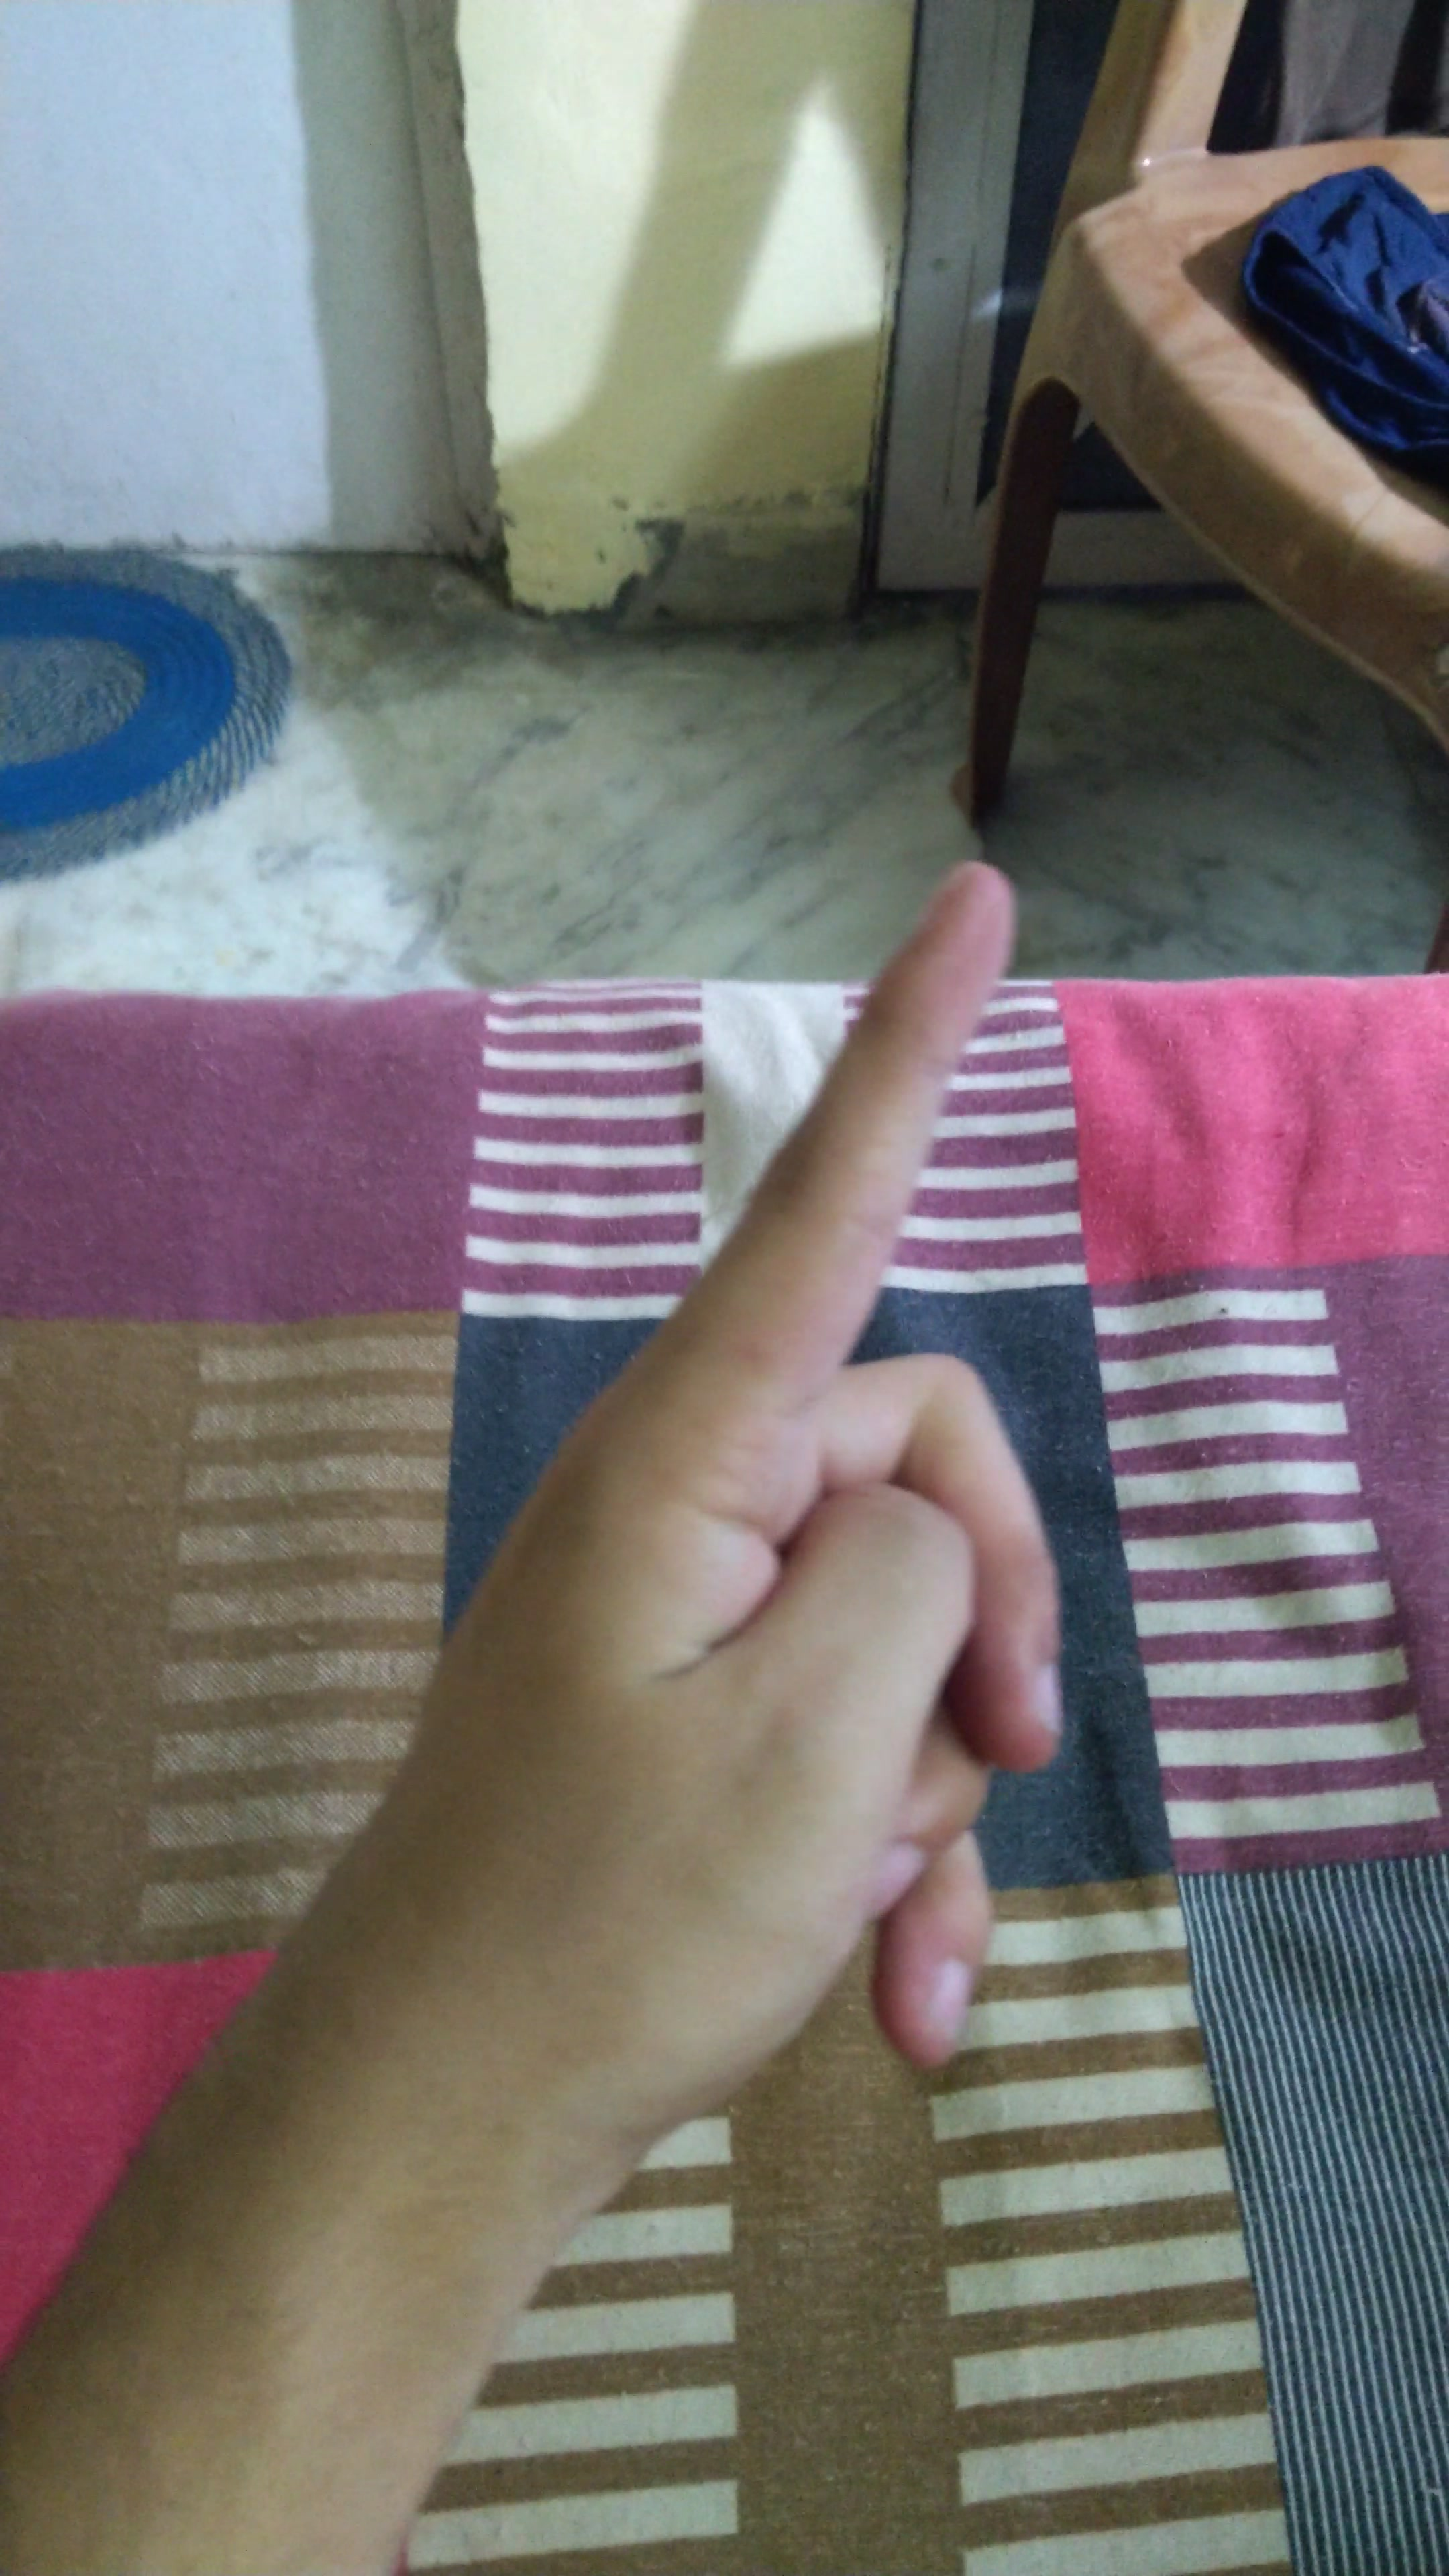hand: (186, 849, 1164, 2137)
